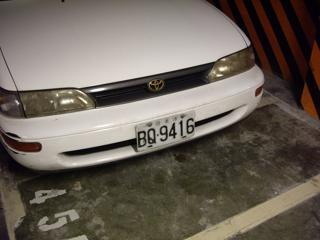plate: (134, 112, 197, 151)
